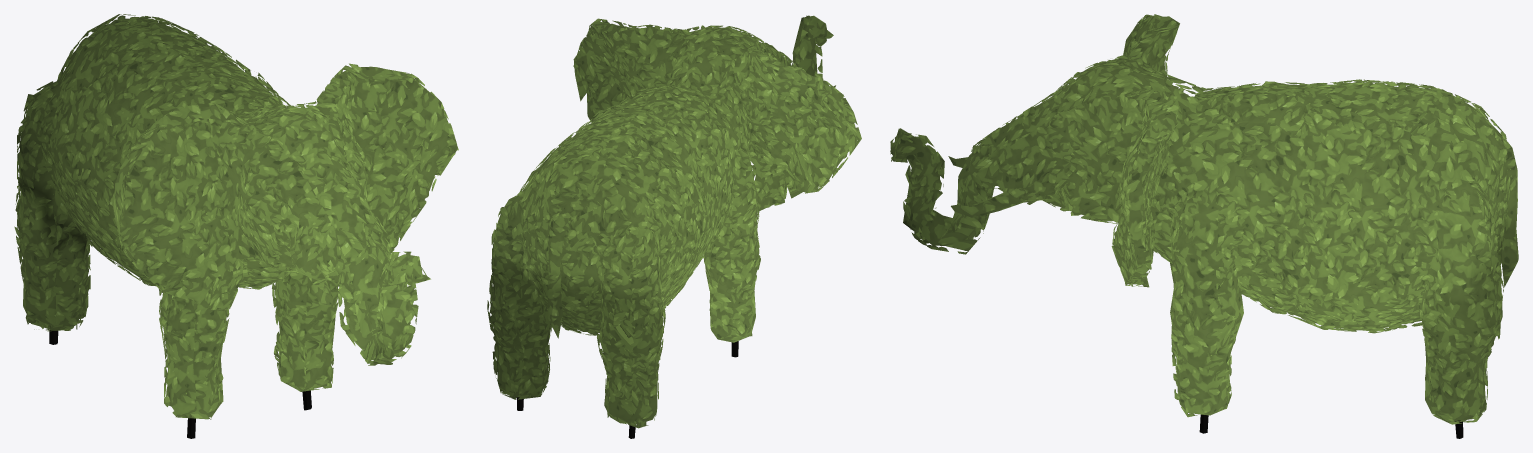
The model's file is SM_Env_Hedge_Topiary_03.fbx.
The picture shows the model from 3 angles, left to right: view 1: azimuth 30°, elevation 25°; view 2: azimuth 150°, elevation 25°; view 3: azimuth 270°, elevation 25°; orthographic projection. The views are drawn at different scales.
Visible parts, largest first — view 1: SM_Env_Hedge_Topiary_03_LOD0; view 2: SM_Env_Hedge_Topiary_03_LOD0; view 3: SM_Env_Hedge_Topiary_03_LOD0.
Part boxes in pixels (x1=…): SM_Env_Hedge_Topiary_03_LOD0: x1=14, y1=14, x2=458, y2=438; SM_Env_Hedge_Topiary_03_LOD0: x1=487, y1=15, x2=861, y2=438; SM_Env_Hedge_Topiary_03_LOD0: x1=890, y1=14, x2=1518, y2=438.
Size of what is drawn, in the model's own units: 399 by 392 by 648.
